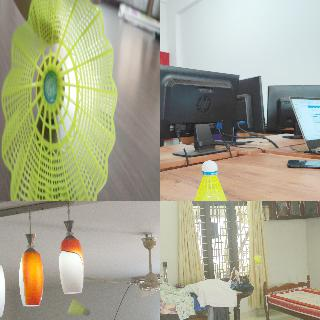shuttlecock: (1, 1, 117, 200), (191, 159, 230, 200), (67, 298, 89, 316), (253, 256, 260, 264)
